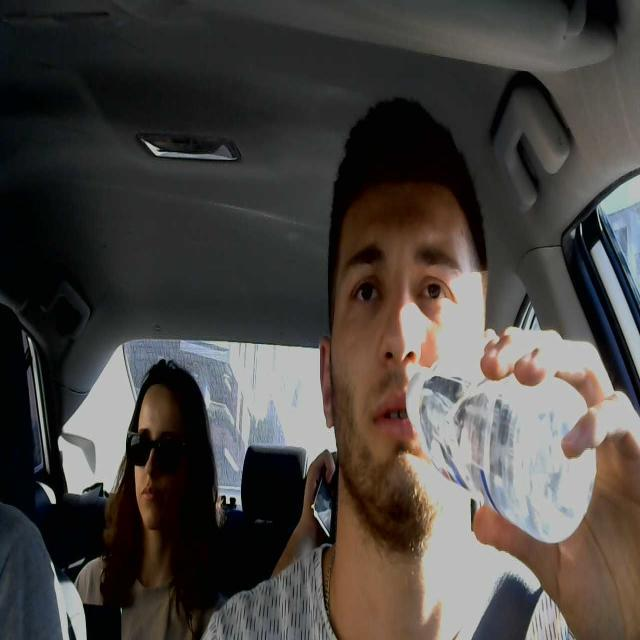Seatbelt: (405, 345, 607, 548)
